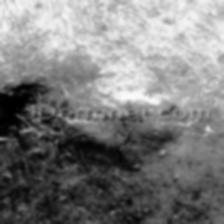Potentially Malignant Skin Tumors: (0, 79, 52, 127)
